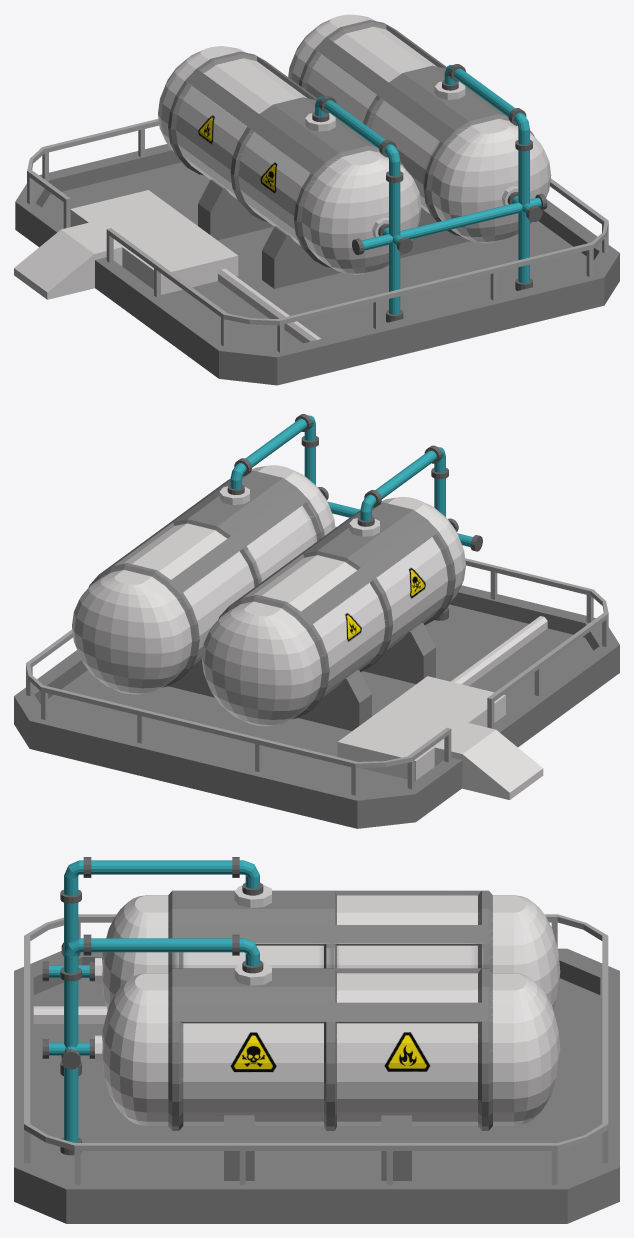
The model's file is deposito_horizontal.obj.
3 renders of one model, top to bottom at view 1: azimuth 30°, elevation 25°; view 2: azimuth 150°, elevation 25°; view 3: azimuth 270°, elevation 25°, orthographic. The views are drawn at different scales.
Parts seen in each view (by area): view 1: export_Fuel_tank_2_; view 2: export_Fuel_tank_2_; view 3: export_Fuel_tank_2_.
Boxes of the visible parts, x1=… form: export_Fuel_tank_2_: x1=14, y1=14, x2=619, y2=385; export_Fuel_tank_2_: x1=14, y1=414, x2=619, y2=828; export_Fuel_tank_2_: x1=14, y1=857, x2=619, y2=1223.
Bounding box in the file's own units: 2.49 × 1 × 2.37.
Materials: 1 (1 with a texture image).
